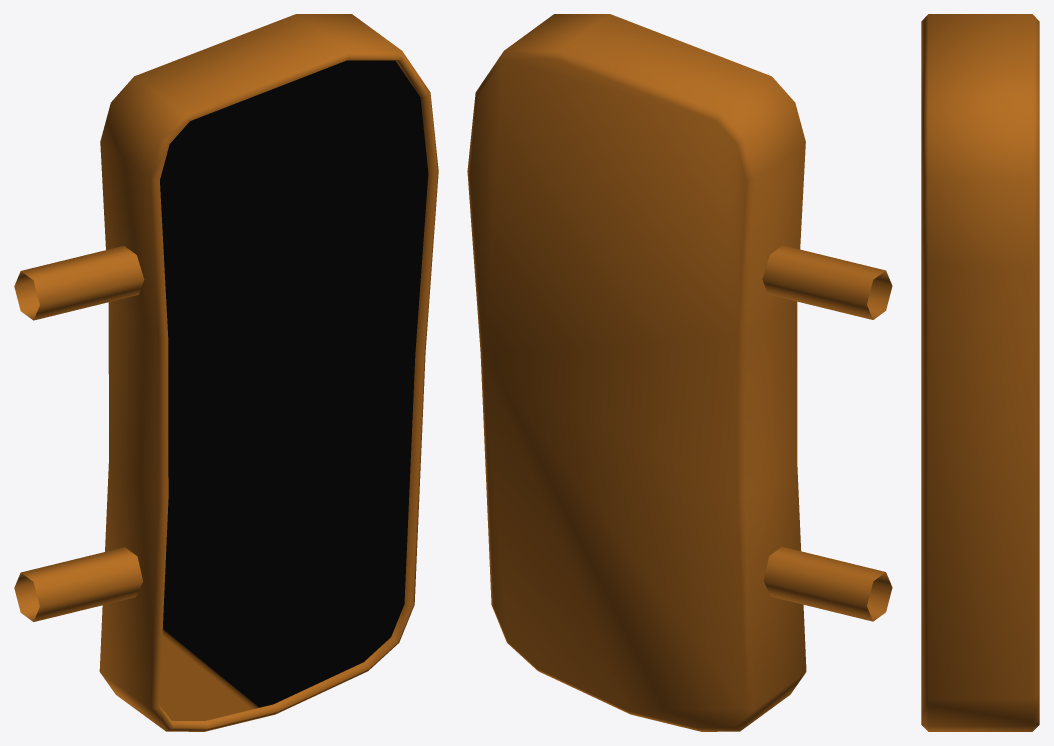
The model's file is sign1.FBX.
3 views of the same model, side by side, from view 1: azimuth 30°, elevation 25°; view 2: azimuth 150°, elevation 25°; view 3: azimuth 270°, elevation 25° (orthographic). The views are drawn at different scales.
Parts seen in each view (by area): view 1: Object001; view 2: Object001; view 3: Object001.
Part boxes in pixels (x1,y1,x2,y2): Object001: [14, 14, 438, 731]; Object001: [467, 14, 892, 731]; Object001: [921, 14, 1039, 731].
Bounding box in the file's own units: 196 × 313 × 50.
